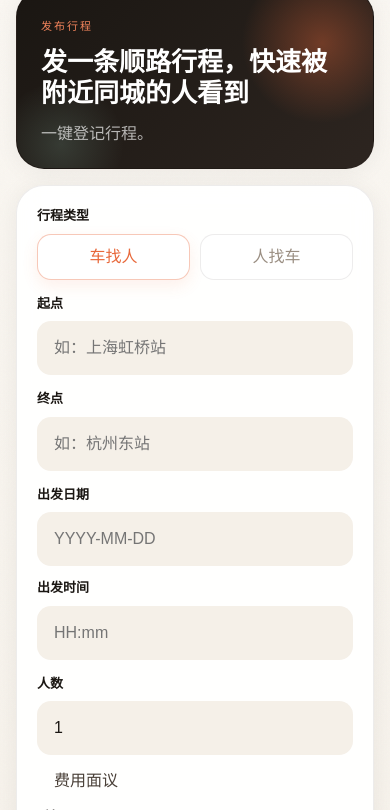
Test case: blocks publish when departure is earlier than now
Type "上海" into the field labelled "起点" at (195, 348), box [37,322,353,376]
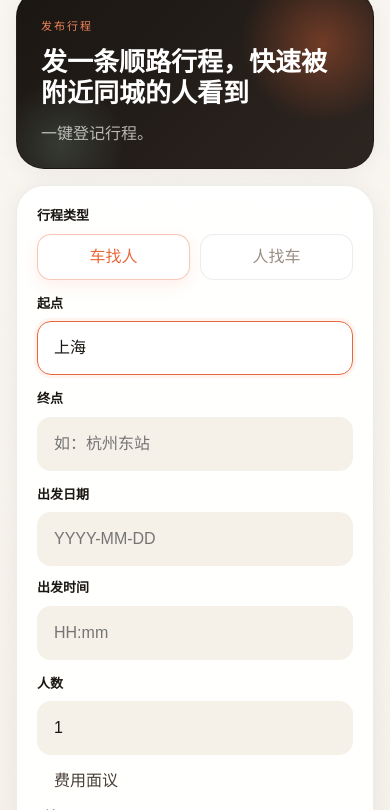
Type "杭州" into the field labelled "终点" at (195, 444), box [37,417,353,471]
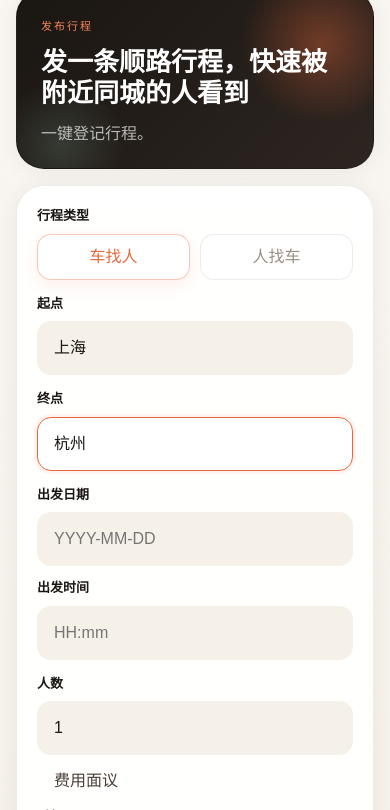
Type "2026-04-24" into the field labelled "出发日期" at (195, 540), box [37,512,353,566]
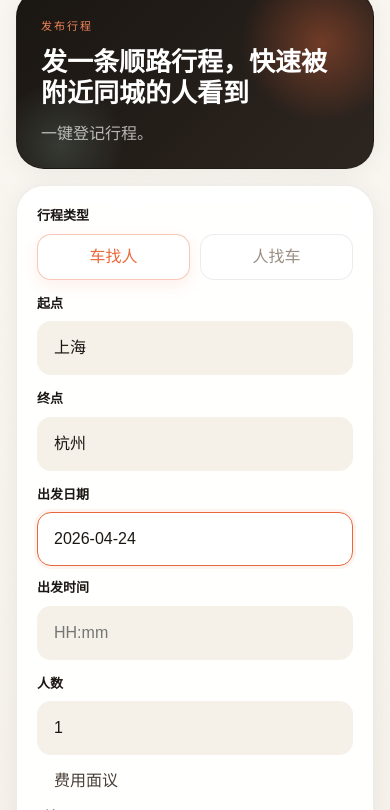
Type "08:30" into the field labelled "出发时间" at (195, 633), box [37,606,353,660]
(page scrolled)
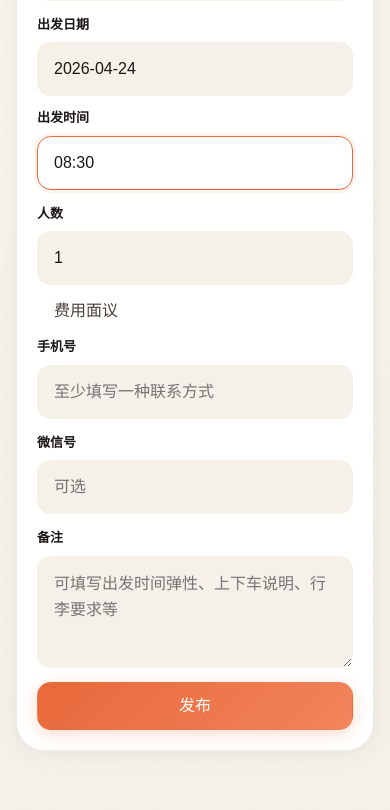
Type "13800138000" into the field labelled "手机号" at (195, 392), box [37,365,353,419]
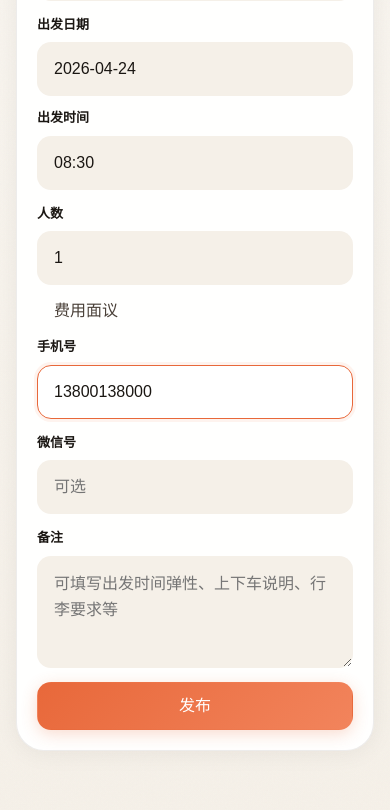
Click the button "发布" at (195, 706), box [37,682,353,730]
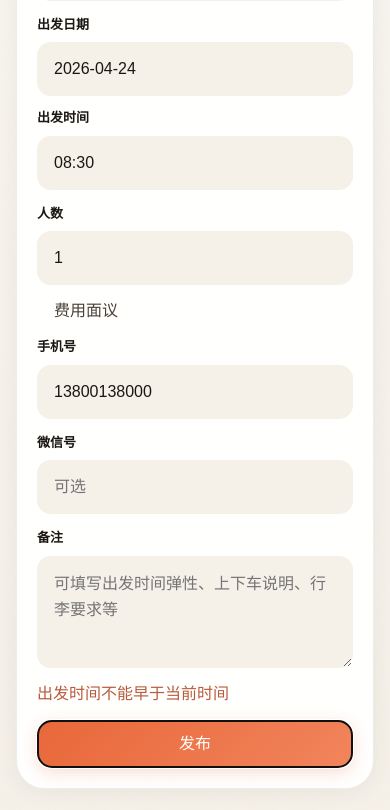
Expected: the text "出发时间不能早于当前时间" is shown, [37,685,229,702]
